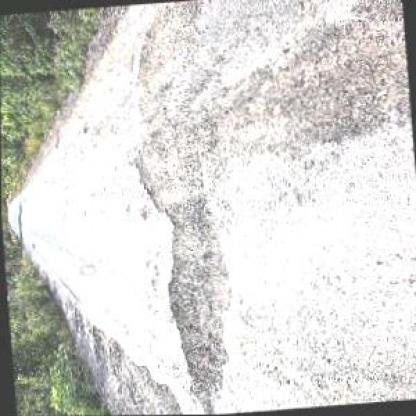pothole: (161, 222, 236, 405), (130, 143, 215, 219)
